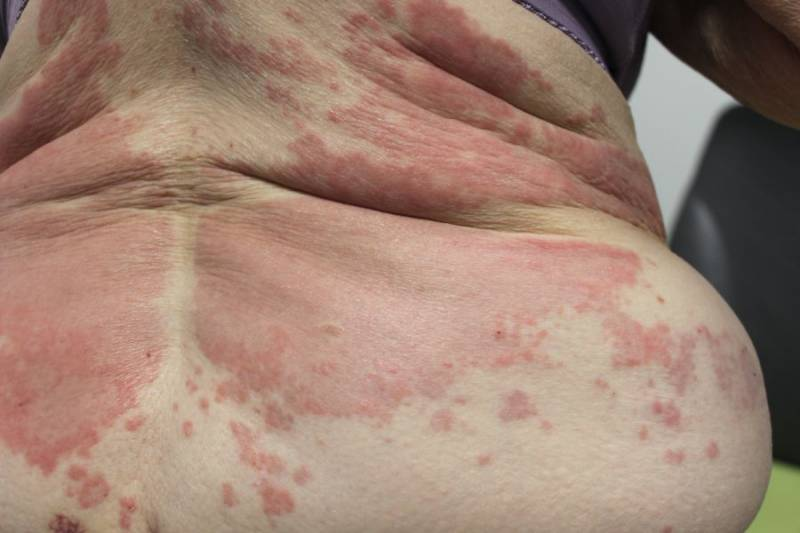Pemphigoid: (237, 49, 591, 392), (1, 30, 161, 445)
